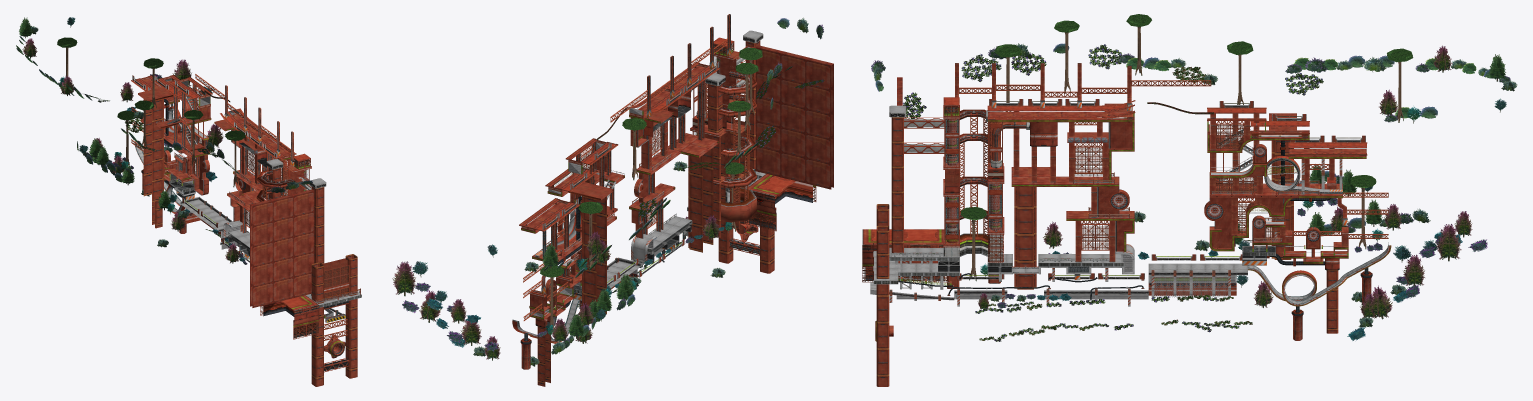
Rendered from stg410_07.obj.
The picture shows the model from 3 angles, left to right: view 1: azimuth 30°, elevation 25°; view 2: azimuth 150°, elevation 25°; view 3: azimuth 270°, elevation 25°; orthographic projection. The views are drawn at different scales.
Visible parts, largest first — view 1: polygon26, polygon102, polygon119, polygon257, polygon22, polygon270, polygon106, polygon69, polygon104, polygon258, polygon171, polygon147 (+12 smaller); view 2: polygon26, polygon98, polygon257, polygon270, polygon119, polygon147, polygon269, polygon102, polygon145, polygon69, polygon195, polygon21 (+30 smaller); view 3: polygon98, polygon257, polygon102, polygon254, polygon270, polygon147, polygon248, polygon22, polygon5, polygon69, polygon269, polygon164 (+50 smaller).
Boxes of the visible parts, x1,y1,x2,y2 form: polygon26: (250, 189, 314, 307); polygon102: (311, 254, 360, 386); polygon119: (143, 99, 163, 202); polygon257: (19, 17, 134, 185); polygon22: (312, 186, 324, 263); polygon270: (120, 59, 223, 184); polygon106: (324, 265, 349, 301); polygon69: (143, 83, 207, 152); polygon104: (324, 259, 347, 300); polygon258: (158, 190, 239, 263); polygon171: (181, 200, 228, 230); polygon147: (242, 137, 287, 199); polygon26: (755, 45, 833, 189); polygon98: (688, 83, 744, 252); polygon257: (542, 231, 632, 342); polygon270: (392, 261, 500, 360); polygon119: (582, 196, 606, 314); polygon147: (645, 80, 705, 167); polygon269: (402, 261, 498, 356); polygon102: (718, 226, 774, 273); polygon145: (636, 133, 718, 174); polygon69: (552, 142, 614, 256); polygon195: (633, 207, 691, 259); polygon21: (749, 181, 812, 228); polygon98: (947, 122, 1036, 289); polygon257: (1308, 45, 1505, 236); polygon102: (873, 204, 889, 386); polygon254: (1285, 55, 1510, 122); polygon270: (1360, 211, 1472, 319); polygon147: (992, 111, 1108, 182); polygon248: (975, 295, 1252, 341); polygon22: (891, 117, 903, 252); polygon5: (1215, 124, 1274, 240); polygon69: (1209, 113, 1336, 194); polygon269: (1347, 232, 1487, 340); polygon164: (1074, 147, 1109, 249).
Size of the model in its own units: 1021 by 1197 by 2348.
Materials: 45 (45 with a texture image).
